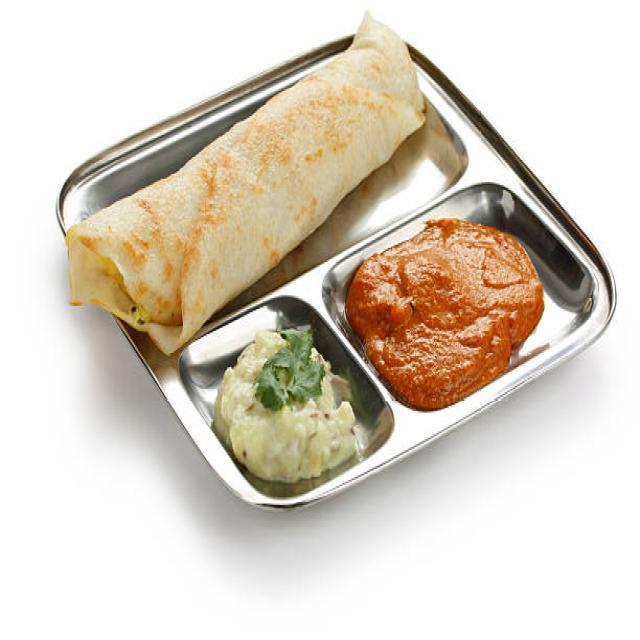DOSA: (67, 13, 425, 355)
RED CHUTNEY: (346, 221, 545, 407)
WHITE CHUTNEY: (214, 331, 356, 482)
